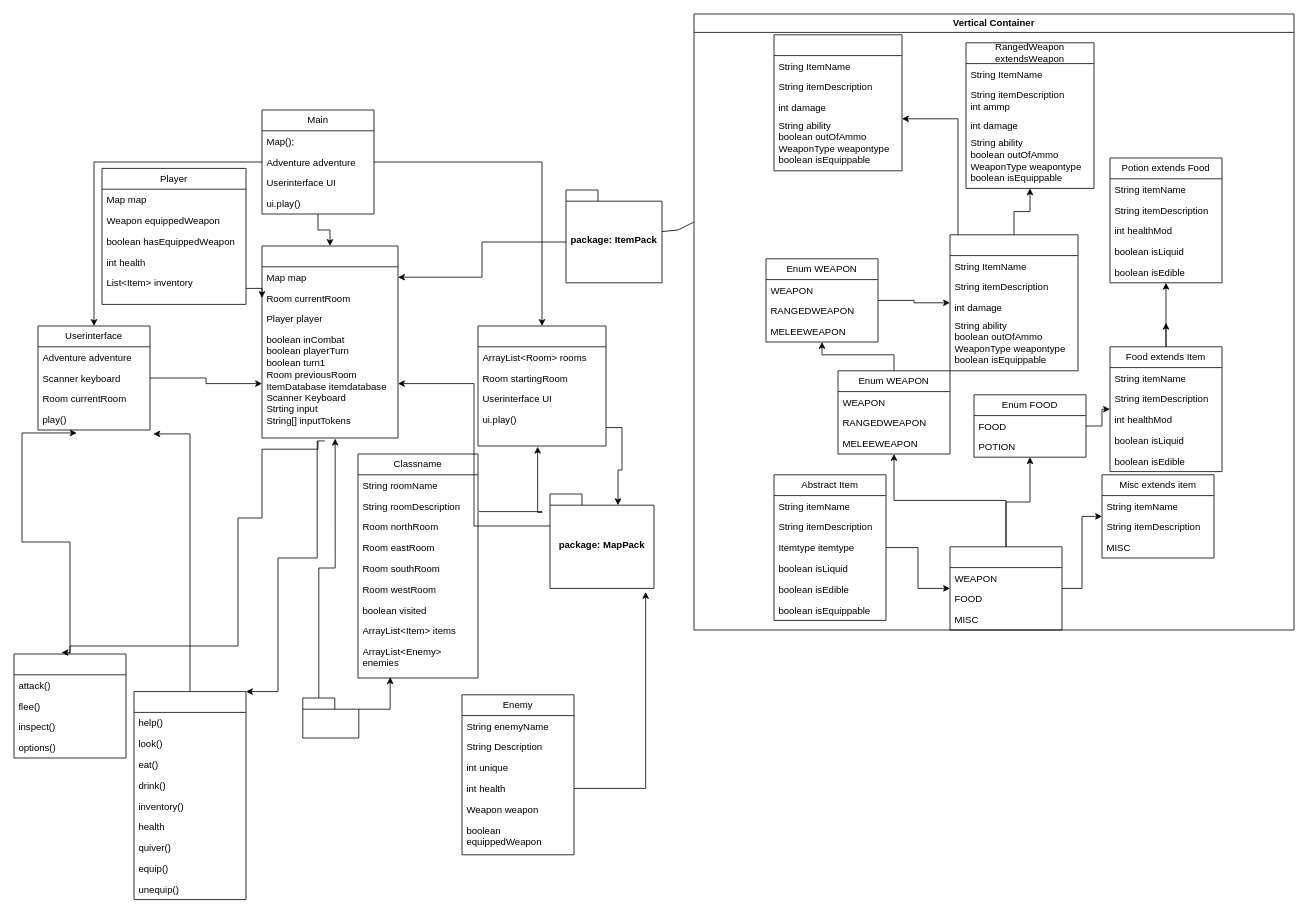
Some shapes in this 1308 by 916 pixel diagram are drawn without their labels. Each missing label, with the box of its shape:
abstract classWeapon extends Item: (949, 234, 1078, 371)
Adventure: (261, 245, 398, 438)
enum CombatCommand: (13, 653, 126, 758)
Enum General Command: (133, 691, 246, 900)
Enum ItemType: (949, 546, 1062, 630)
Map: (477, 325, 606, 446)
MeleeWeapon extends Weapon: (773, 34, 902, 171)
package: RoomPack: (302, 697, 359, 738)
